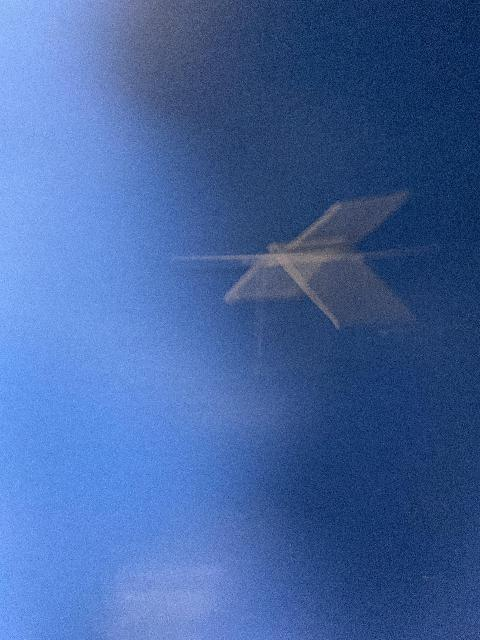Plastik: (154, 198, 411, 333)
